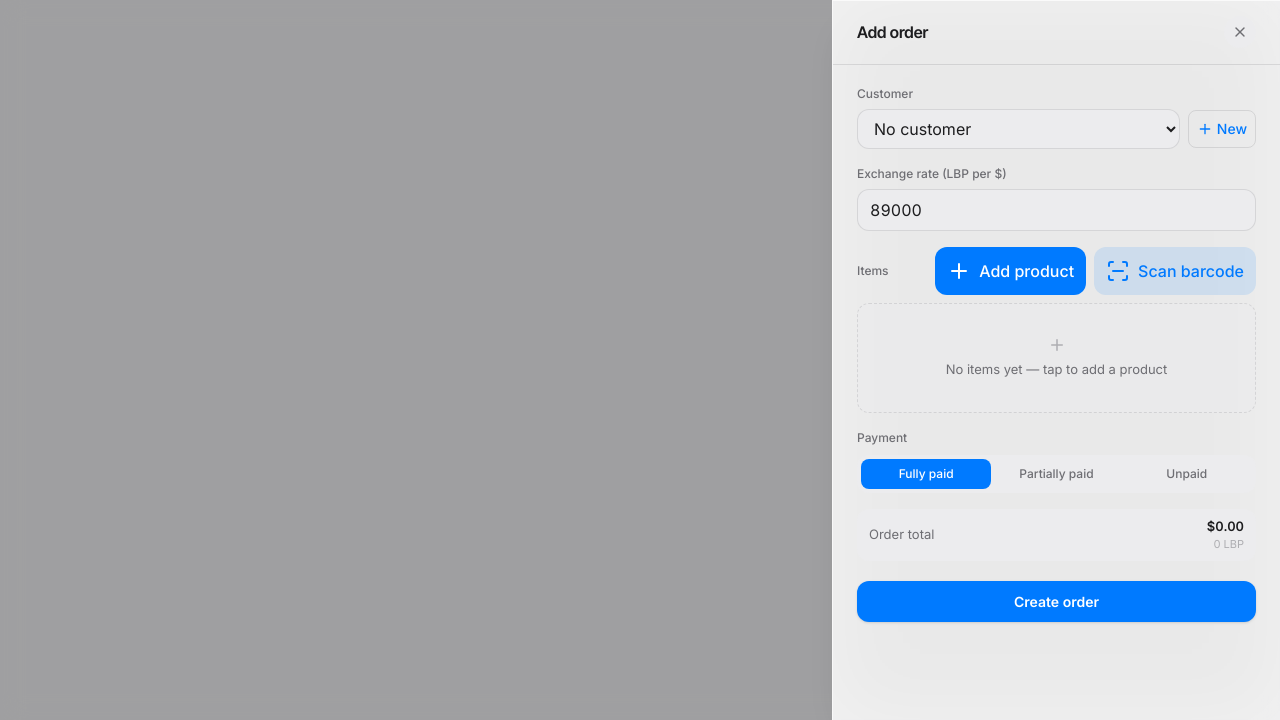
Scenario: OrderForm stock gating › flags a line that asks for more than is in stock
Click the button "Add product" at (1011, 271), box [935, 247, 1086, 295]
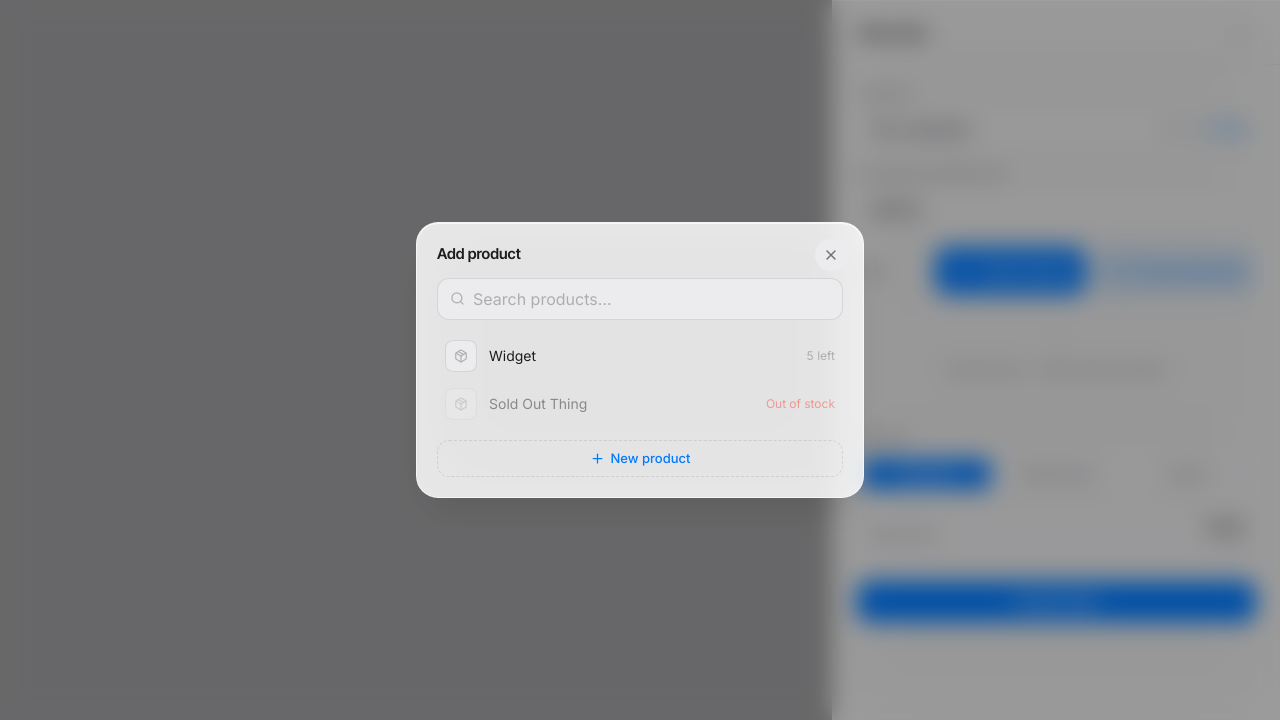
Click the button "Widget 5 left" at (461, 356), box [437, 332, 843, 380]
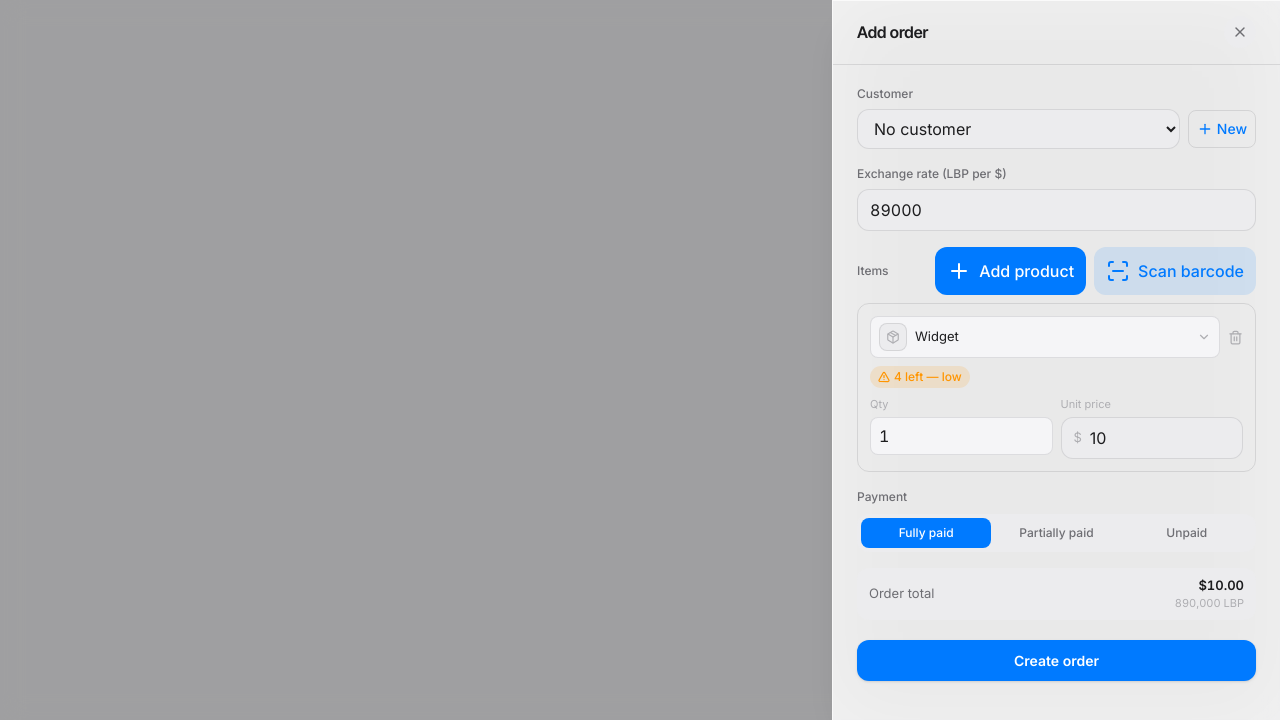
Replace the text in the 2nd number field with "6" at (961, 436), box [870, 416, 1052, 454]
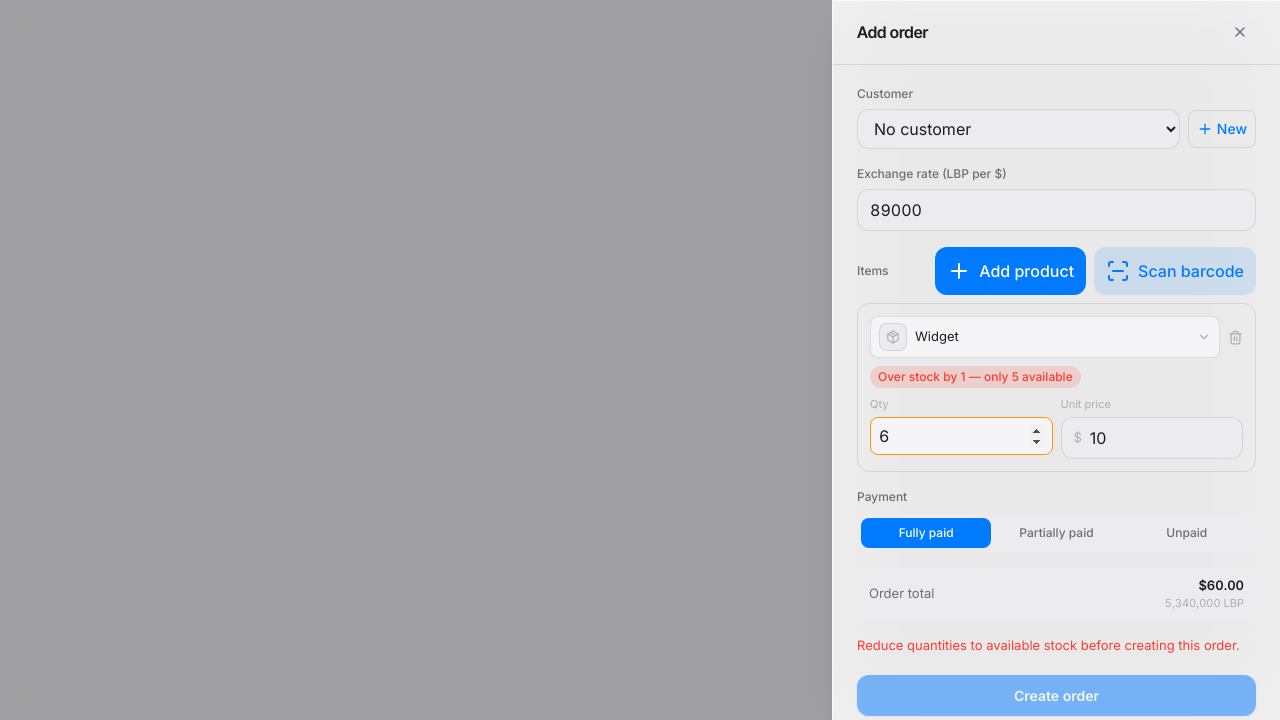
Expected: the text "Over stock by 1 — only 5 available" is shown, [870, 366, 1081, 388]
Expected: the button "Create order" is disabled, [857, 675, 1256, 716]
